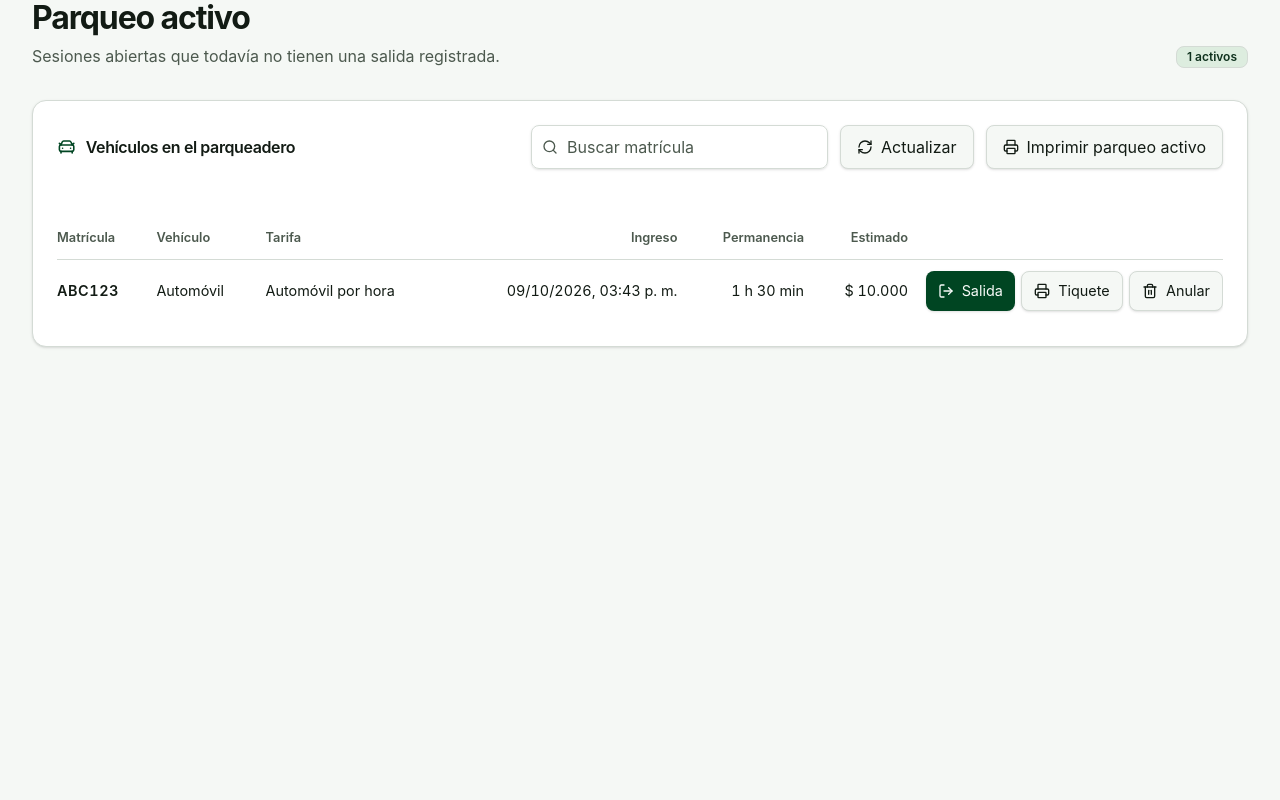
Parqueo activo › cotiza la salida y registra el cobro con su recibo
Check: the table is shown, box [57,217,1223,322]
Click the button "Salida" at (970, 291), box [926,271,1015,311]
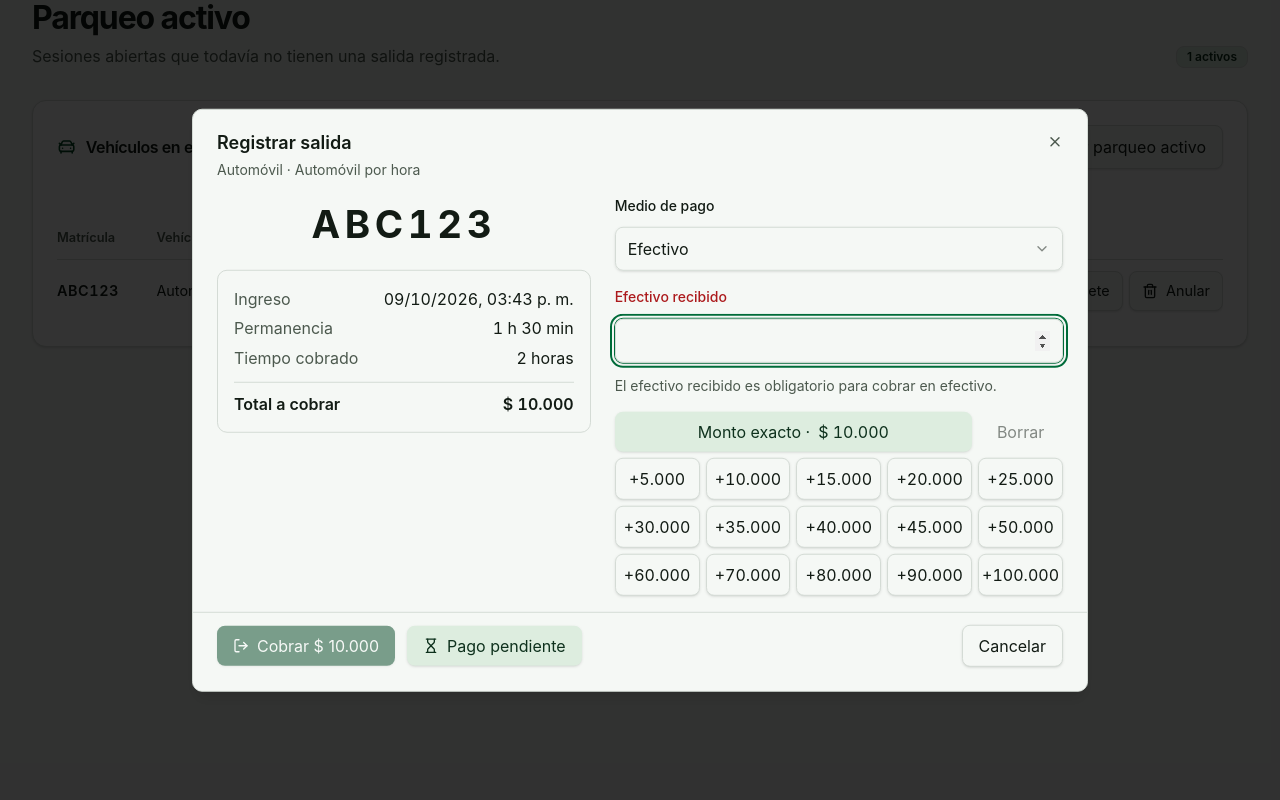
Check: the text "Total a cobrar" is shown, box [234,392,340,416]
Check: the button "Cobrar $ 10.000" is disabled, box [217,625,395,665]
Type "20000" into the number field labelled "Efectivo recibido" at (839, 340), box [615,318,1063,362]
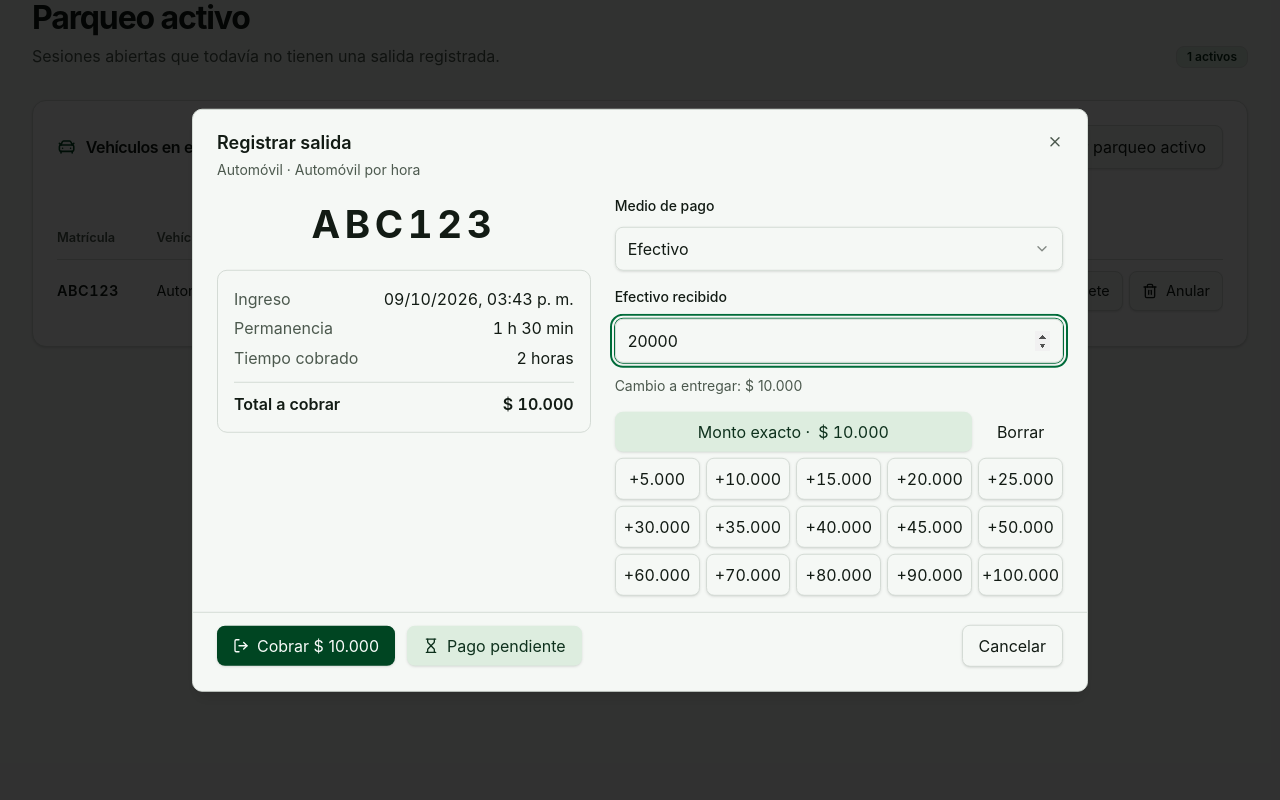
Check: the text "Cambio a entregar: $ 10.000" is shown, box [615,376,802,393]
Check: the button "Cobrar $ 10.000" is enabled
Click the button "Cobrar $ 10.000" at (306, 645), box [217,625,395,665]
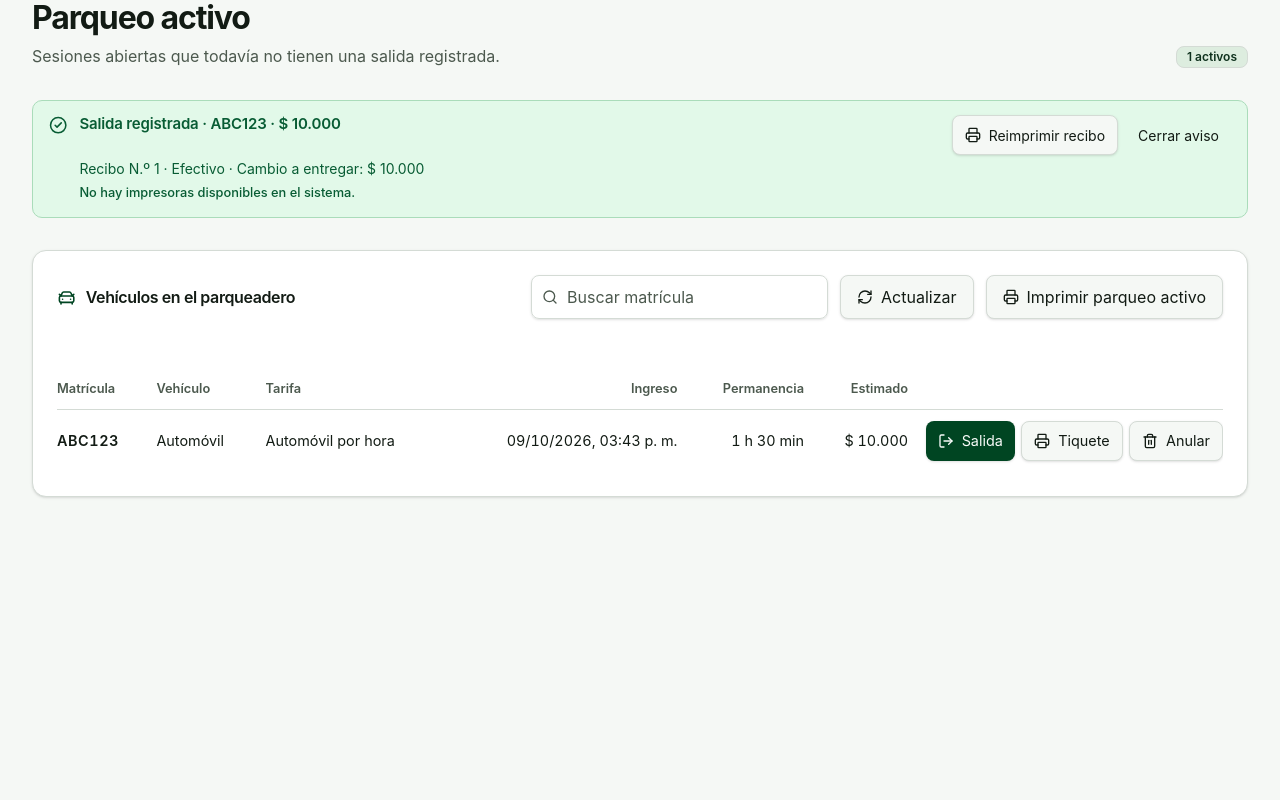
Check: the text "Salida registrada · ABC123 · $ 10.000" is shown, box [79,114,341,133]
Check: the text "Recibo N.º 1 · Efectivo · Cambio a entregar: $ 10.000" is shown, box [79,160,424,177]
